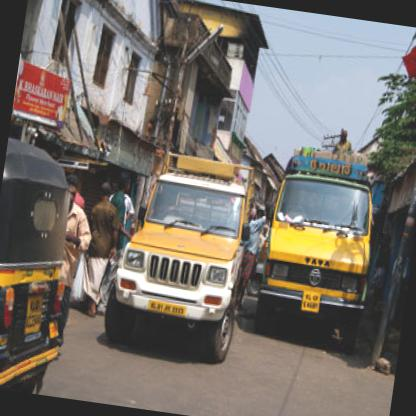car: (102, 140, 266, 370)
truck: (252, 148, 382, 350)
